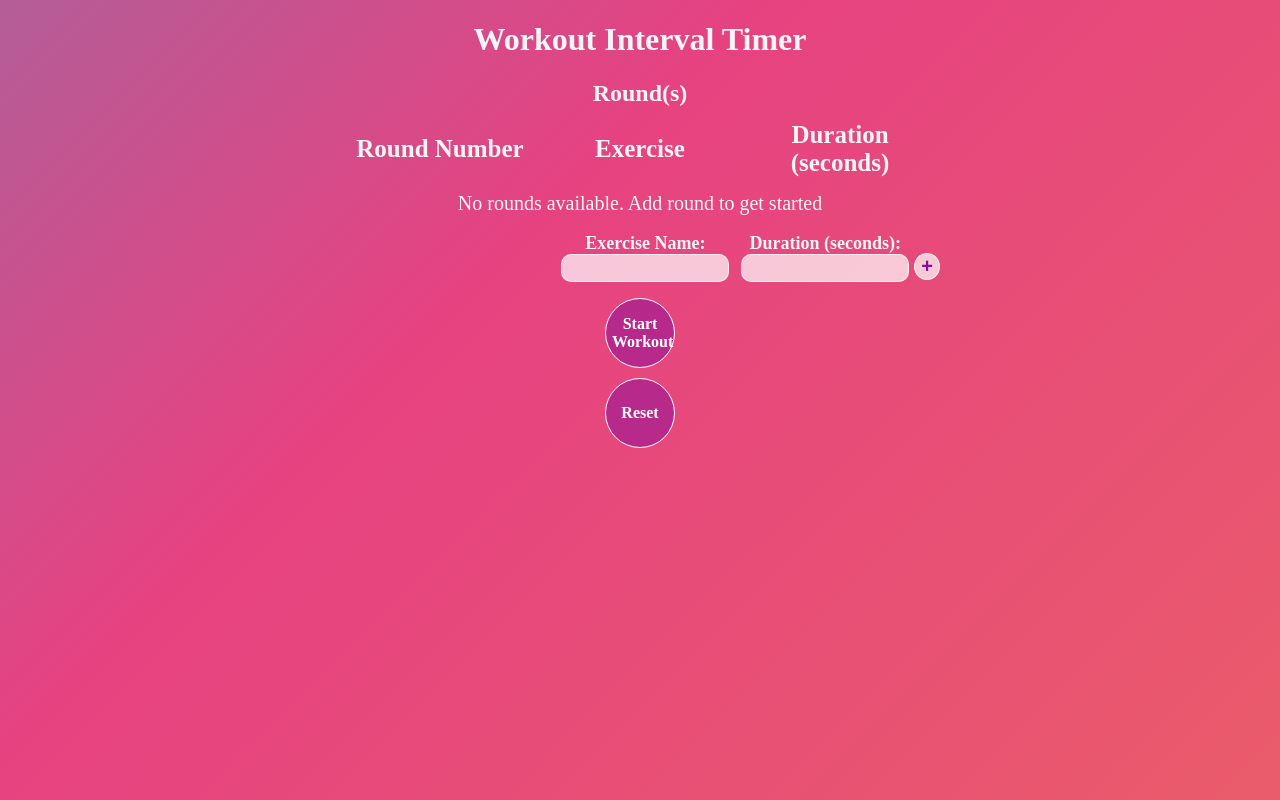
Test case: App › Displays error if adding round without round duration
Type "Push-ups" into the field with id "exercise_name" at (645, 268), box [561,254,729,282]
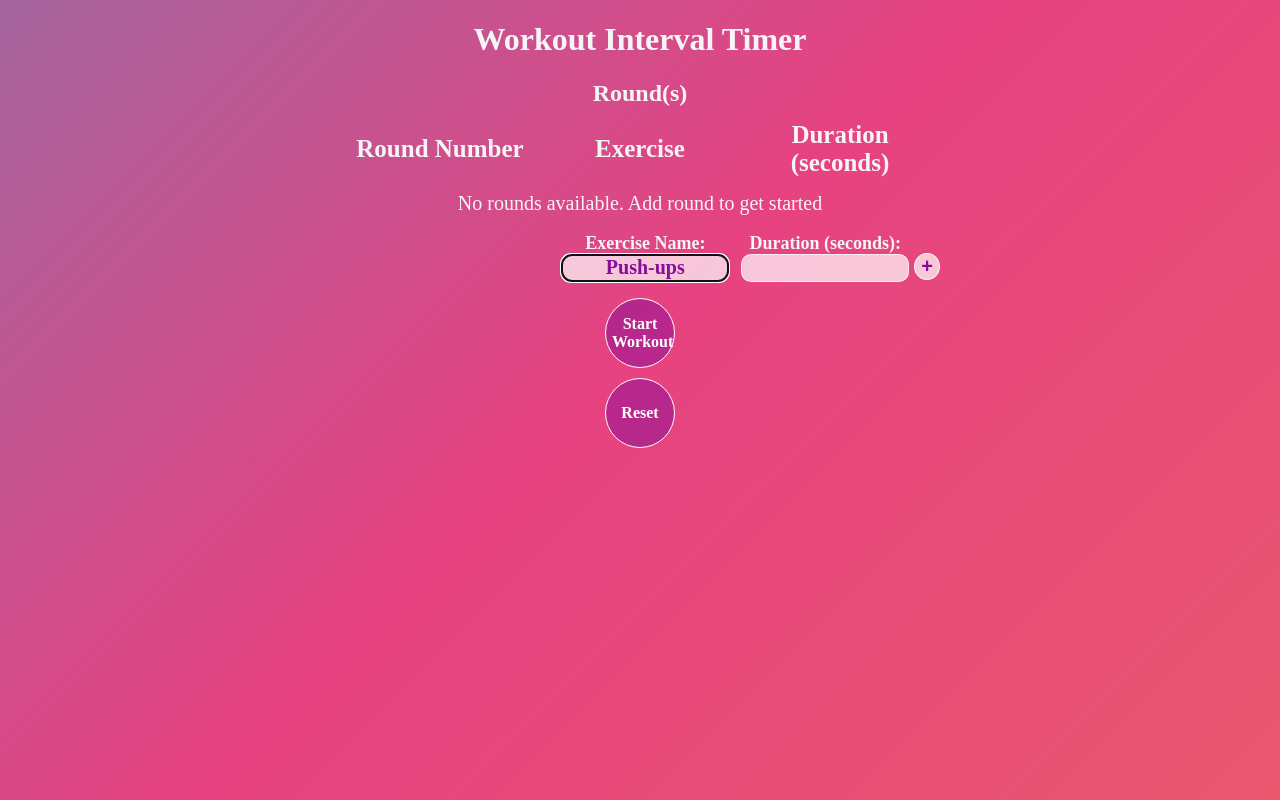
Click the button with id "add_round" at (927, 267), box [914,253,940,280]
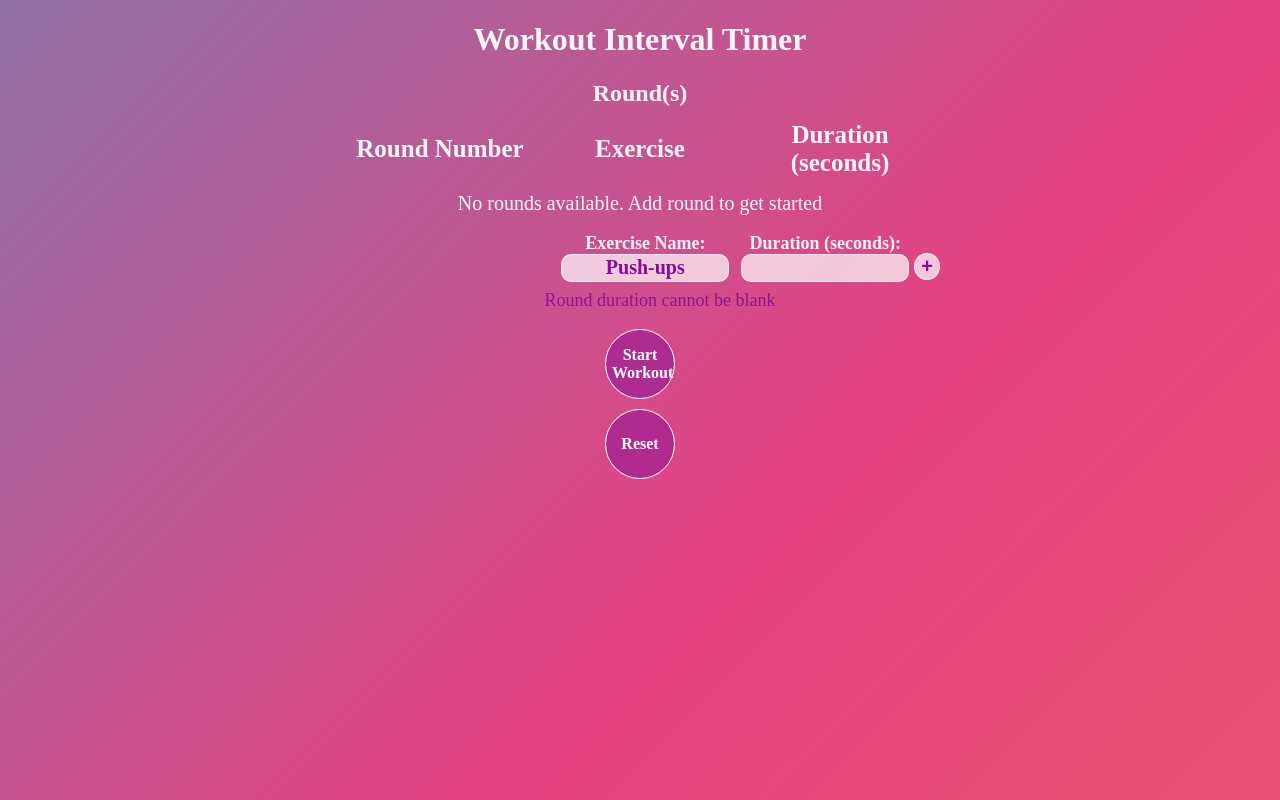
Result: the text "Round duration cannot be blank" is shown at [544,290,776,310]
